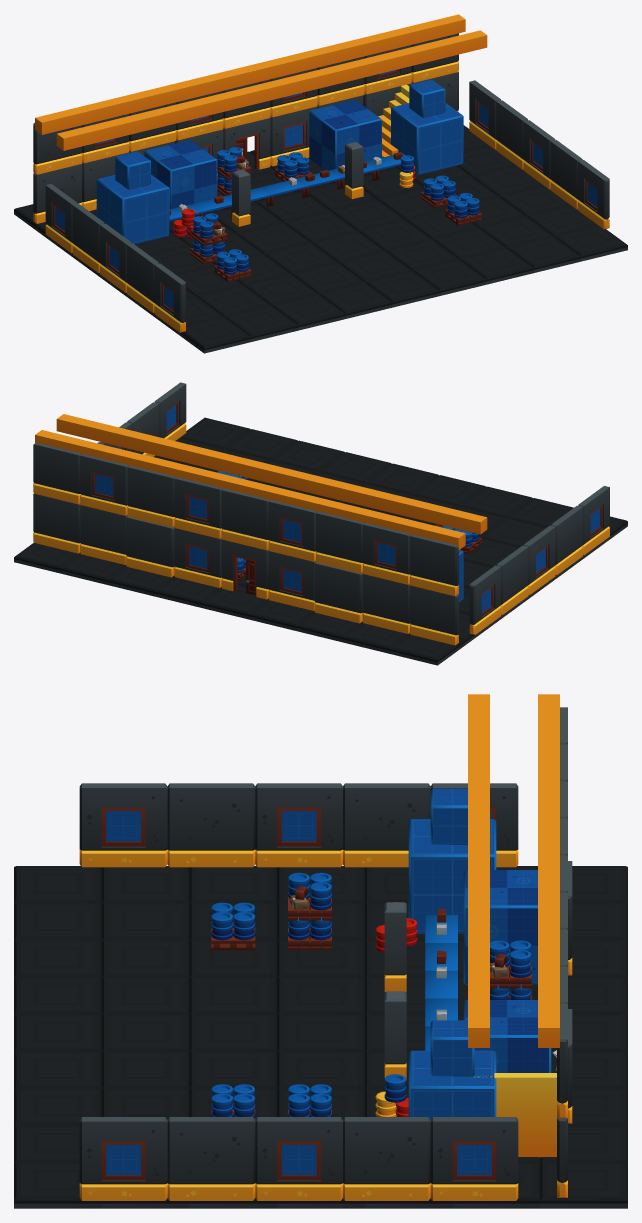
Rendered from level_8.glb.
The picture shows the model from 3 angles, top to bottom: view 1: azimuth 30°, elevation 25°; view 2: azimuth 150°, elevation 25°; view 3: azimuth 270°, elevation 25°; orthographic projection. The views are drawn at different scales.
Parts seen in each view (by area): view 1: Ortam_1, Ortam_2; view 2: Ortam_2, Ortam_1; view 3: Ortam_1, Ortam_2.
Part boxes in pixels (bbox=[...]): Ortam_1: bbox=[14, 79, 627, 353]; Ortam_2: bbox=[33, 14, 609, 332]; Ortam_2: bbox=[33, 382, 609, 645]; Ortam_1: bbox=[14, 417, 627, 665]; Ortam_1: bbox=[14, 788, 627, 1208]; Ortam_2: bbox=[79, 694, 572, 1200].
Bounding box in the file's own units: 36.53 × 9.09 × 28.
Materials: 1 (1 with a texture image).
